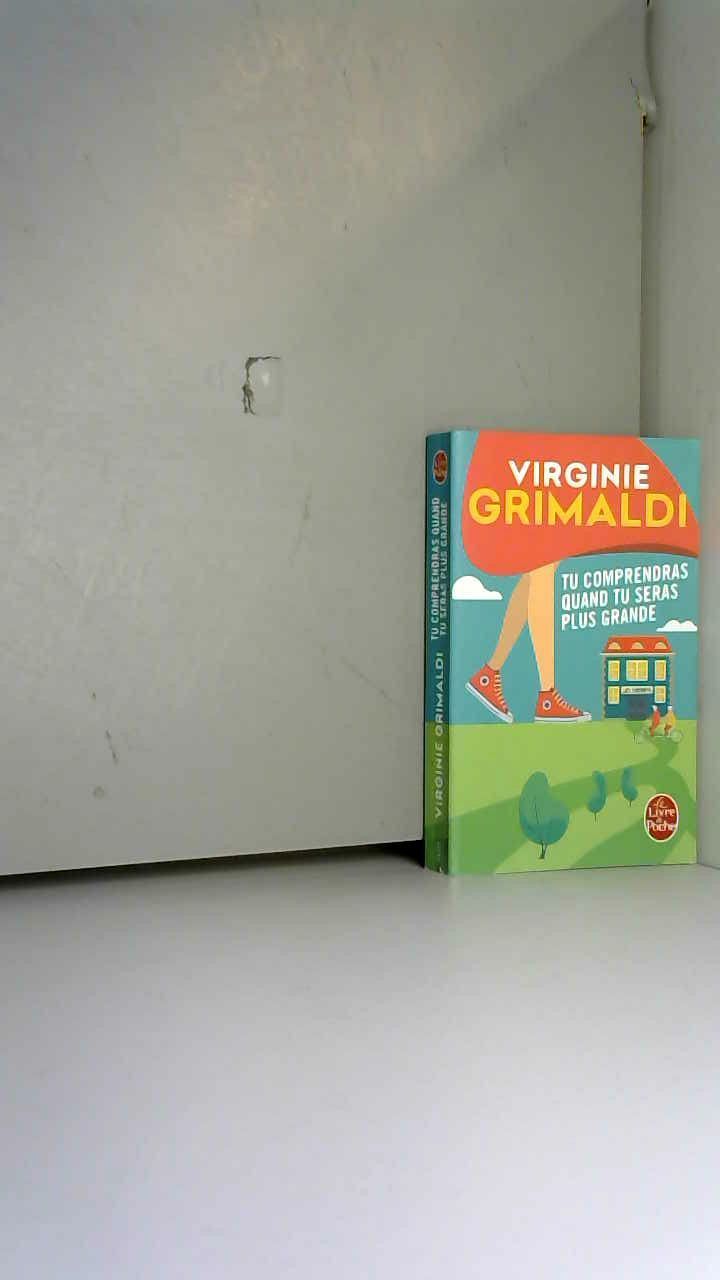book: (390, 400, 716, 898)
